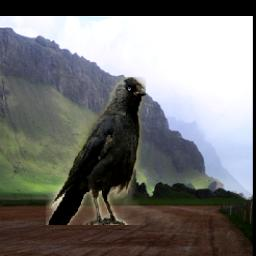Crow: (46, 77, 146, 225)
